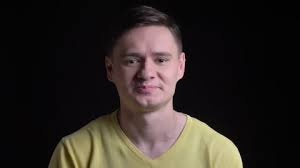white_male: (100, 28, 187, 114)
